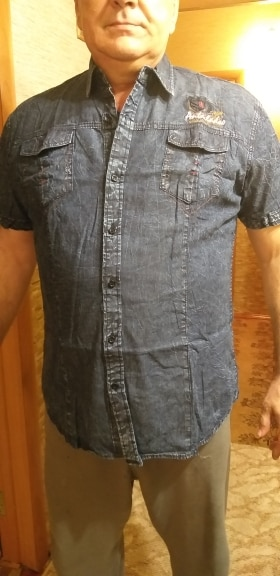shirts: (8, 64, 280, 449)
